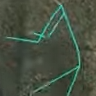hacks_2: (7, 5, 81, 96)
